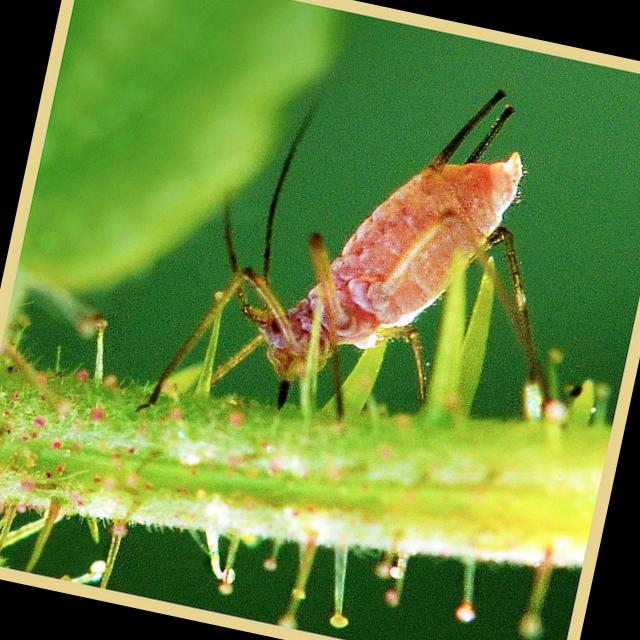Aphid: (140, 27, 616, 529)
